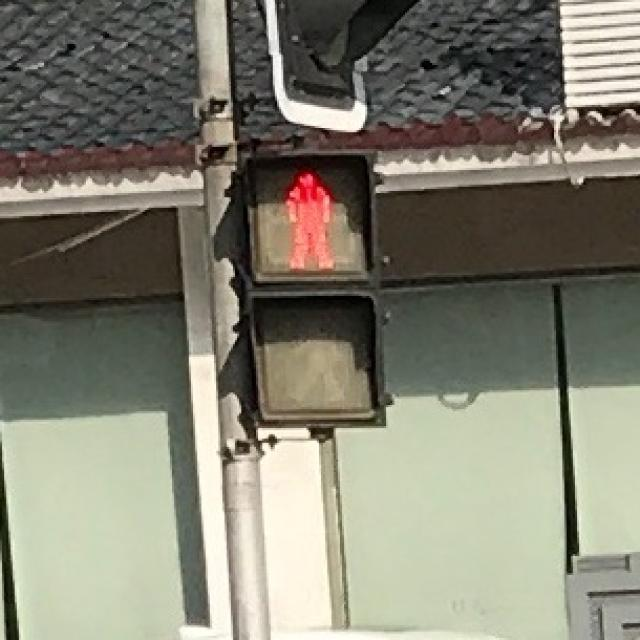red-crossing: (254, 160, 357, 280)
